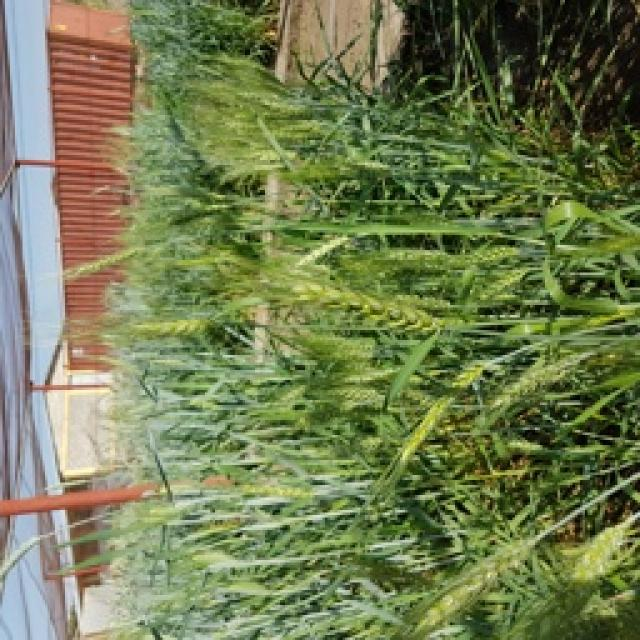Healthy Wheat: (72, 0, 638, 638)
